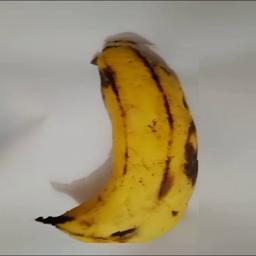Banana Semifresh: (22, 38, 199, 244)
